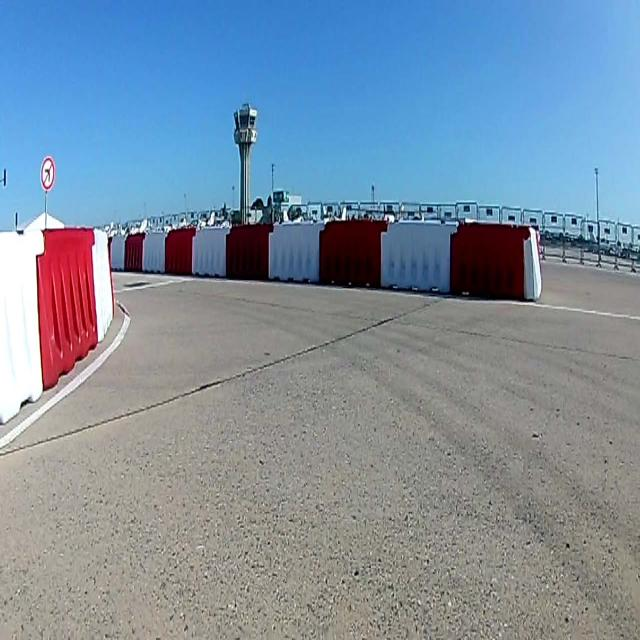soladonulmez: (41, 157, 55, 190)
